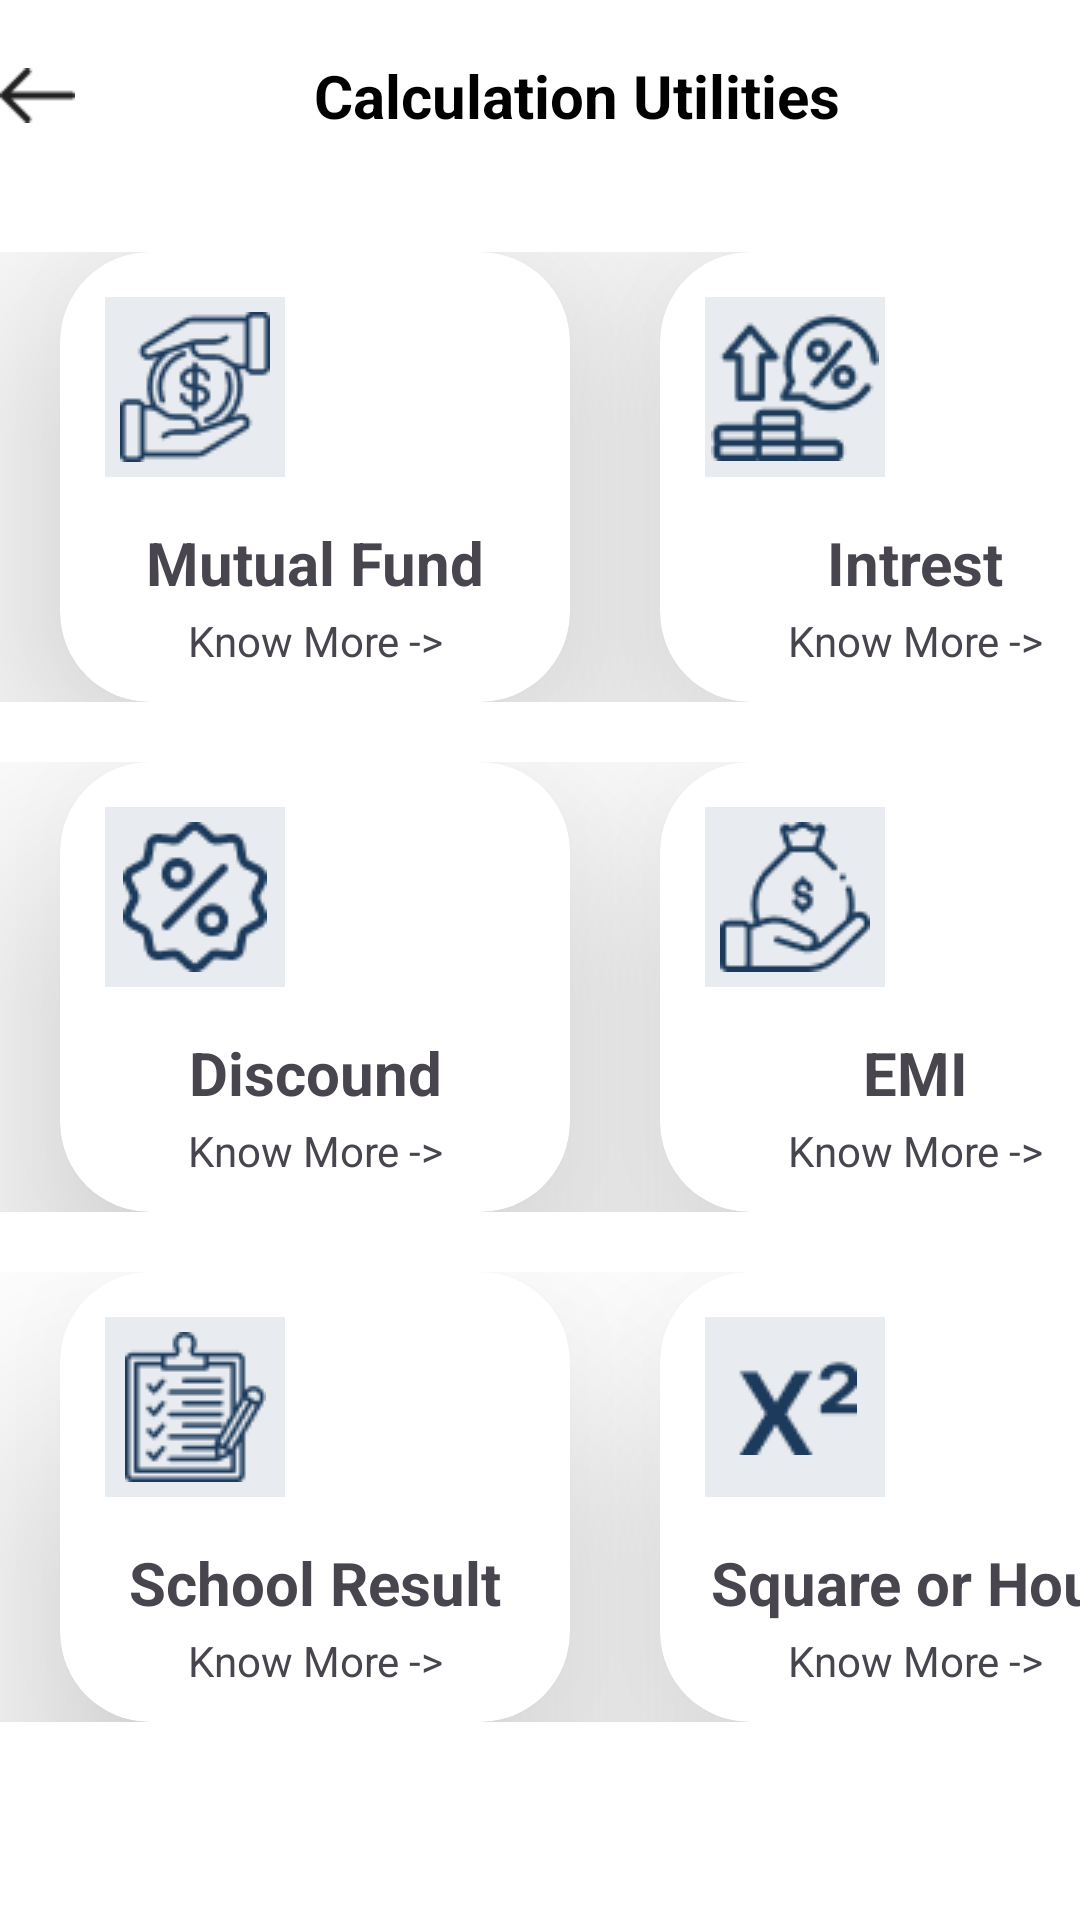

Screen size 1080 x 1920. Icon name, then its center in pixels as (x,y):
backarro: (37,95)
dicount: (195,897)
